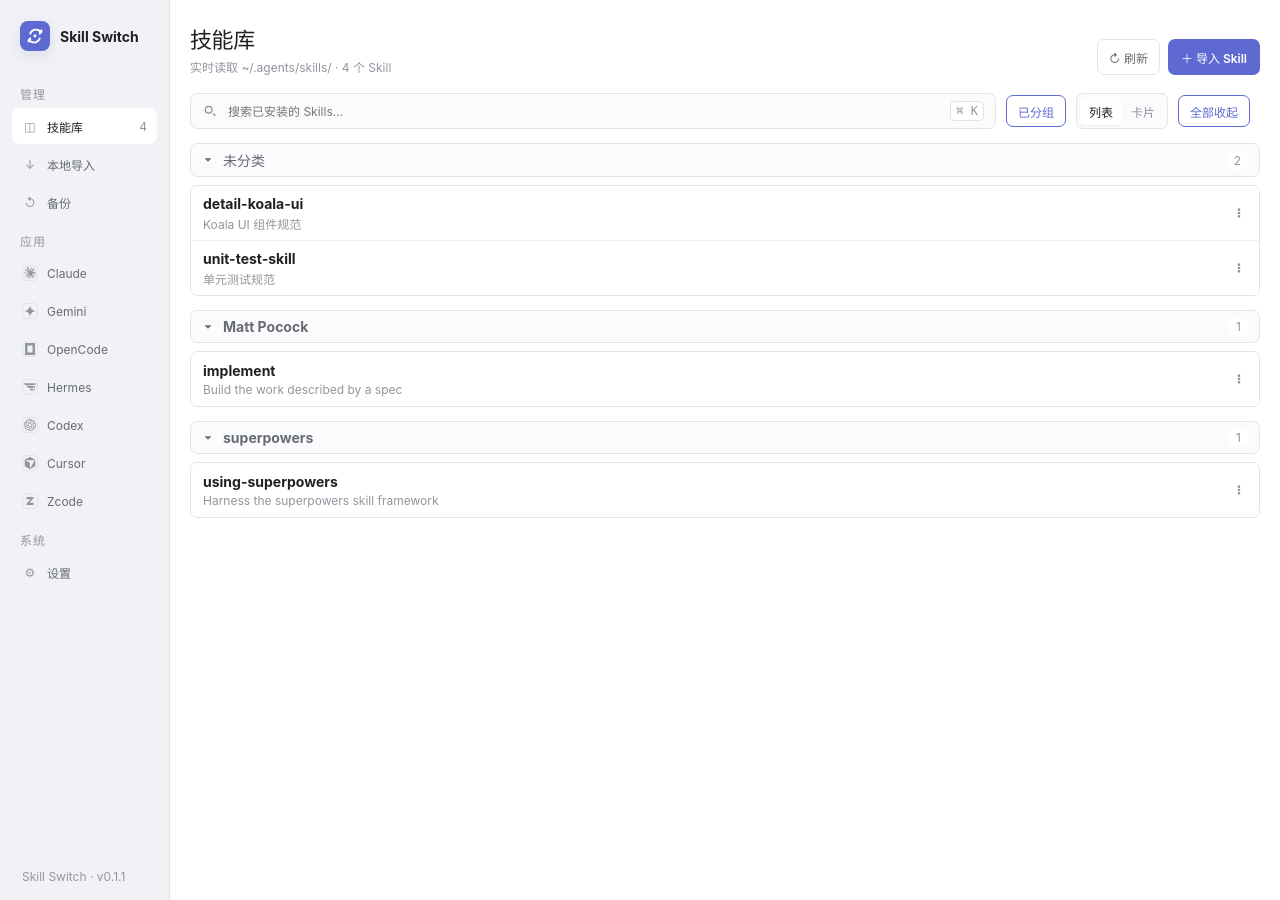
Test: opens the inspector from a selected Skill and renders fixed native visibility
The image size is (1280, 900).
Expected: the dialog "Skill 详情" is not shown
Click the option "detail-koala-ui Koala UI 组件规范": coordinates (253, 203) [203,194,1217,232]
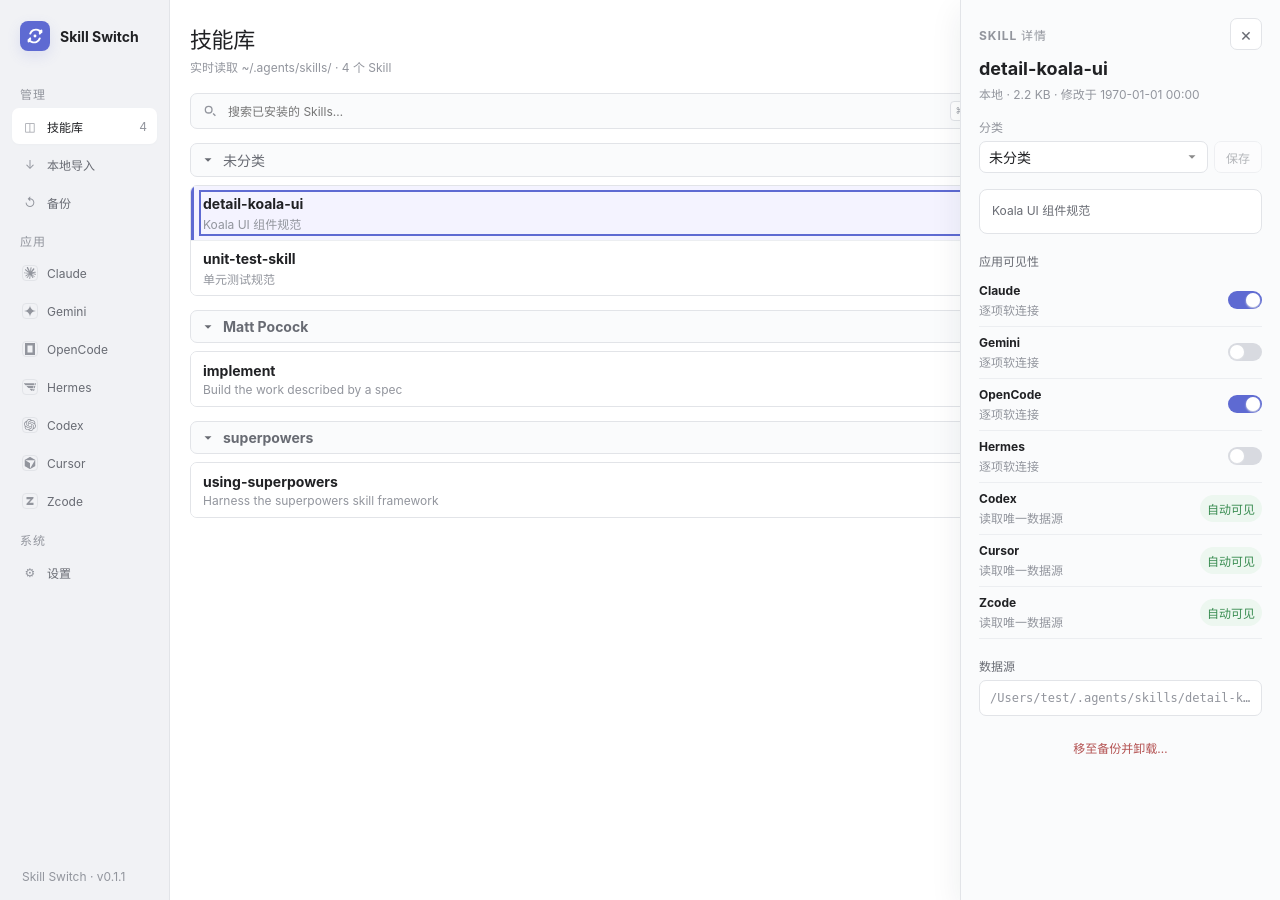
Expected: the heading "detail-koala-ui" is shown, [979,58,1108,79]
Expected: the text "Koala UI 组件规范" is shown 2 times, [203,216,301,232]; [979,189,1262,234]
Expected: the text "自动可见" is shown 3 times, [1200,495,1262,522]; [1200,547,1262,574]; [1200,599,1262,626]
Click the button named "关闭详情遮罩": coordinates (640, 450) [0,0,1279,899]
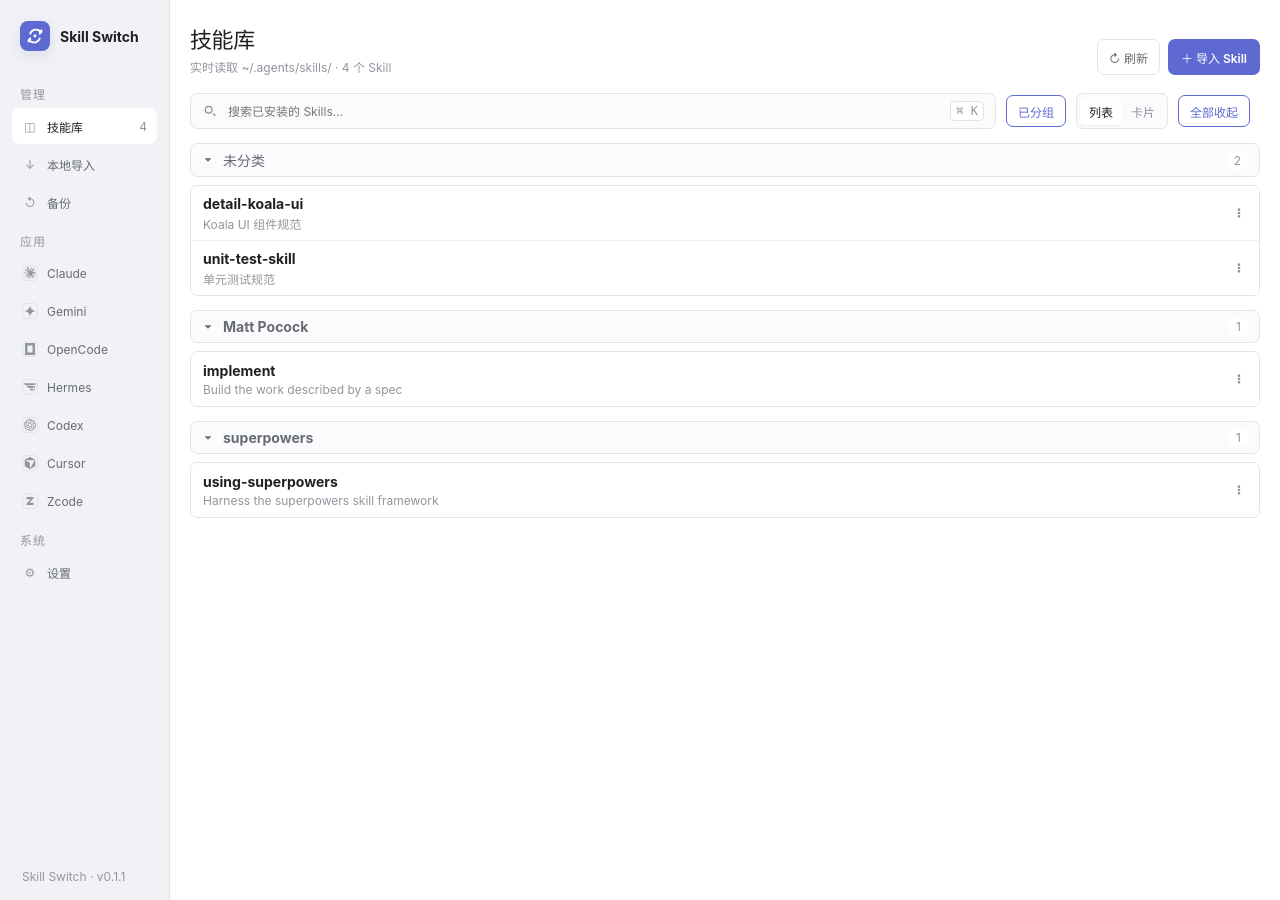
Expected: the text "SKILL 详情" is gone
